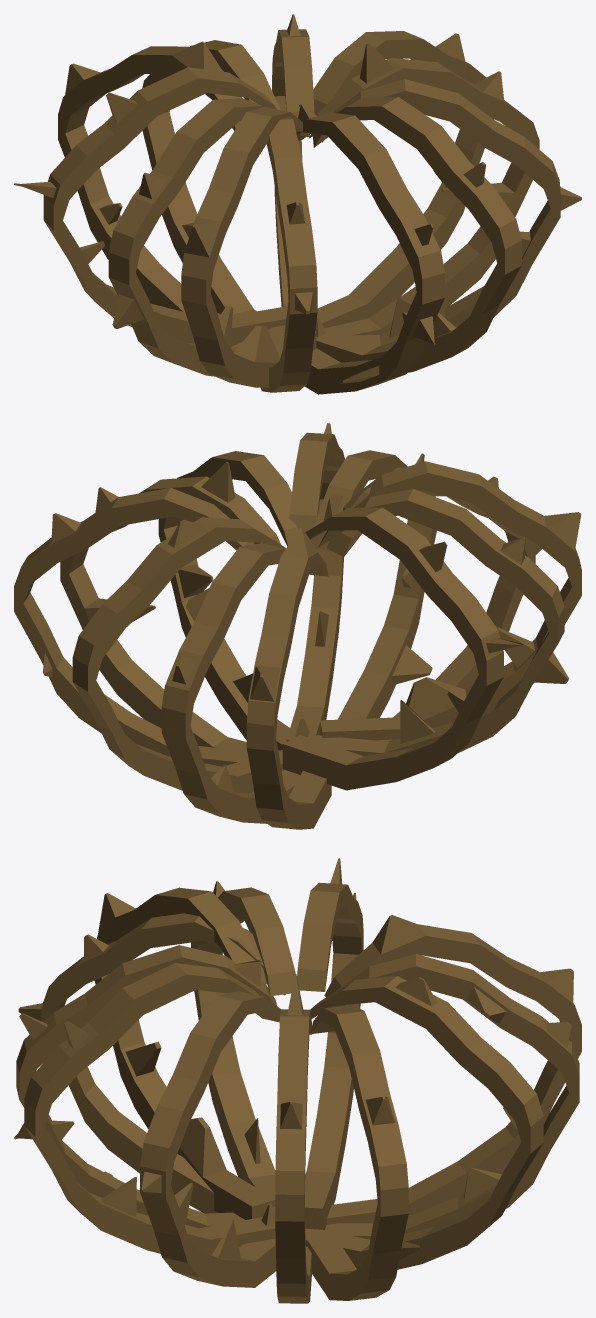
File: arbusto rodante.fbx
3 renders of one model, top to bottom at view 1: azimuth 30°, elevation 25°; view 2: azimuth 150°, elevation 25°; view 3: azimuth 270°, elevation 25°, orthographic. The views are drawn at different scales.
Visible parts, largest first — view 1: Cube.002; view 2: Cube.002; view 3: Cube.002.
Part boxes in pixels (x1,y1,x2,y2): Cube.002: (14,14,581,394); Cube.002: (14,423,581,829); Cube.002: (14,858,581,1303).
Bounding box in the file's own units: 305 × 182 × 289.
